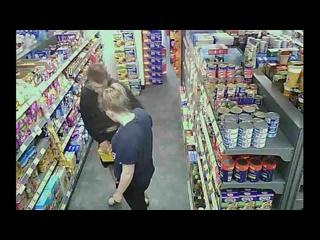shoplifting: (101, 83, 155, 209), (80, 64, 120, 146)
